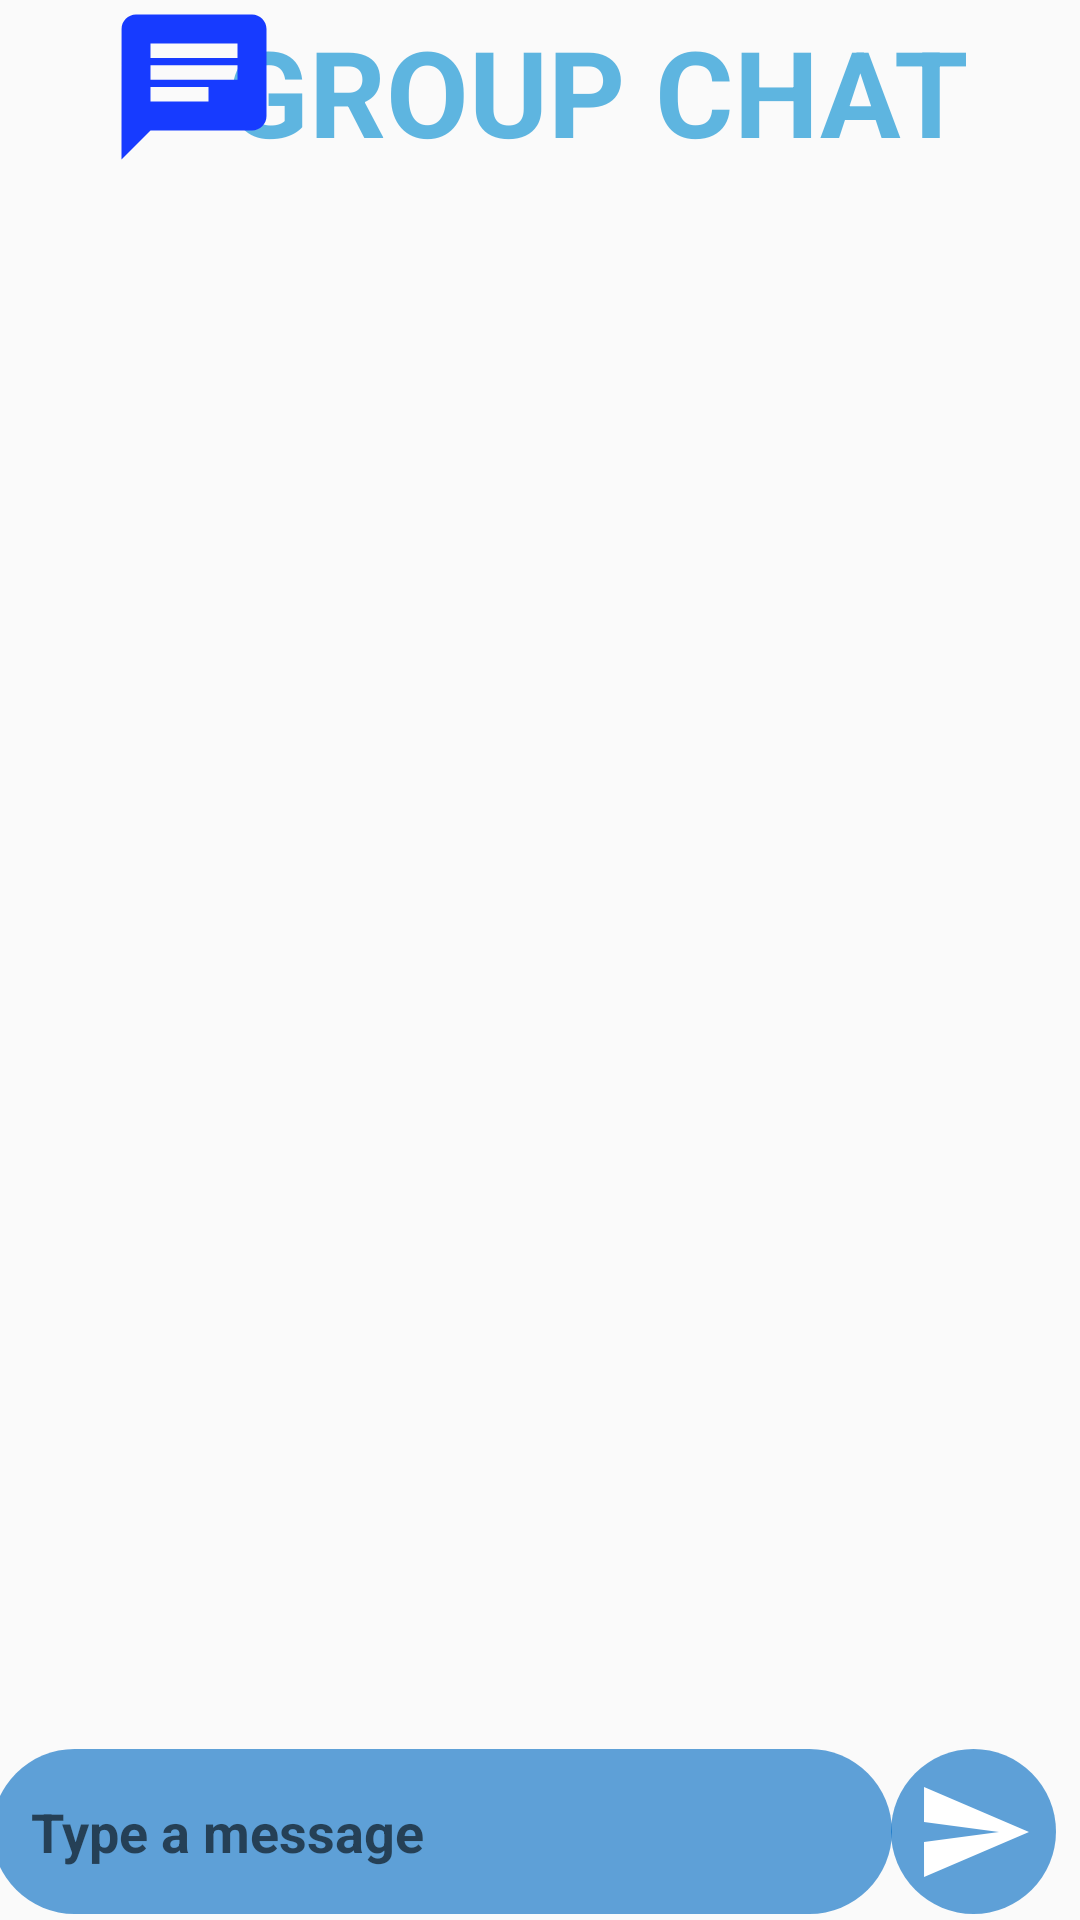

Where icons sit on this 1080 × 1920 app screen, as (x1, y1, x2, y2):
send: (891, 1749, 1056, 1914)
